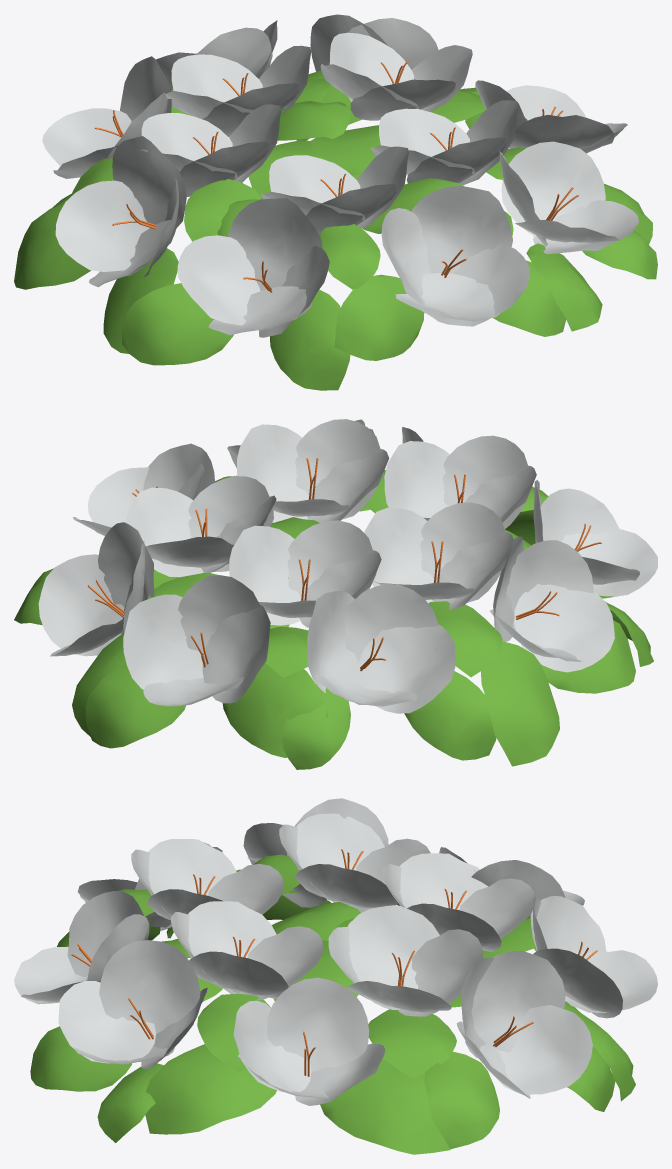
File: blueFlower.fbx
3 renders of one model, top to bottom at view 1: azimuth 30°, elevation 25°; view 2: azimuth 150°, elevation 25°; view 3: azimuth 270°, elevation 25°, orthographic.
Visible parts, largest first — view 1: petal7, petal8, petal9, petal6, petal13, petal17, petal16, petal14, petal15, petal10, leaf11, leaf13 (+20 smaller); view 2: petal10, petal11, petal9, petal17, petal15, petal14, petal12, petal13, petal16, petal8, leaf9, petal5 (+13 smaller); view 3: petal12, petal5, petal6, petal13, petal17, petal11, petal14, petal15, petal16, petal7, leaf, leaf2 (+15 smaller).
Boxes of the visible parts, x1=… form: petal7: x1=381, y1=185, x2=529, y2=326; petal8: x1=177, y1=198, x2=329, y2=337; petal9: x1=55, y1=136, x2=186, y2=287; petal6: x1=499, y1=141, x2=638, y2=254; petal13: x1=320, y1=32, x2=472, y2=120; petal17: x1=371, y1=100, x2=518, y2=185; petal16: x1=261, y1=146, x2=408, y2=234; petal14: x1=163, y1=45, x2=311, y2=136; petal15: x1=140, y1=104, x2=281, y2=196; petal10: x1=42, y1=56, x2=171, y2=178; leaf11: x1=122, y1=283, x2=233, y2=365; leaf13: x1=334, y1=274, x2=424, y2=360; petal10: x1=307, y1=583, x2=455, y2=713; petal11: x1=123, y1=575, x2=270, y2=706; petal9: x1=490, y1=536, x2=614, y2=672; petal17: x1=237, y1=419, x2=389, y2=522; petal15: x1=364, y1=502, x2=513, y2=609; petal14: x1=229, y1=520, x2=381, y2=627; petal12: x1=38, y1=522, x2=154, y2=656; petal13: x1=126, y1=476, x2=276, y2=577; petal16: x1=384, y1=435, x2=536, y2=529; petal8: x1=533, y1=480, x2=657, y2=596; leaf9: x1=481, y1=641, x2=559, y2=766; petal5: x1=73, y1=443, x2=214, y2=535; petal12: x1=456, y1=950, x2=592, y2=1098; petal5: x1=233, y1=977, x2=385, y2=1105; petal6: x1=58, y1=940, x2=207, y2=1068; petal13: x1=328, y1=905, x2=483, y2=1016; petal17: x1=171, y1=901, x2=323, y2=1000; petal11: x1=530, y1=896, x2=657, y2=1018; petal14: x1=382, y1=853, x2=534, y2=951; petal15: x1=279, y1=813, x2=430, y2=912; petal16: x1=131, y1=839, x2=283, y2=920; petal7: x1=14, y1=891, x2=149, y2=1004; leaf: x1=145, y1=1044, x2=276, y2=1134; leaf2: x1=320, y1=1058, x2=450, y2=1154.
Size of the model in its own units: 5.79 by 1.83 by 6.15.
